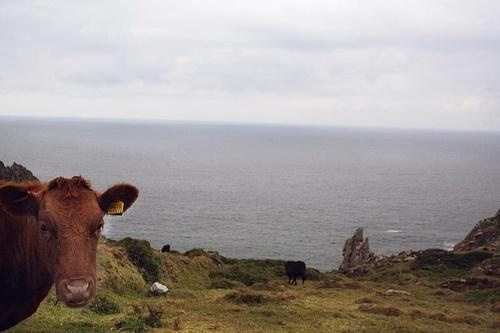cow: (1, 174, 139, 330), (284, 262, 307, 284), (164, 245, 171, 253)
